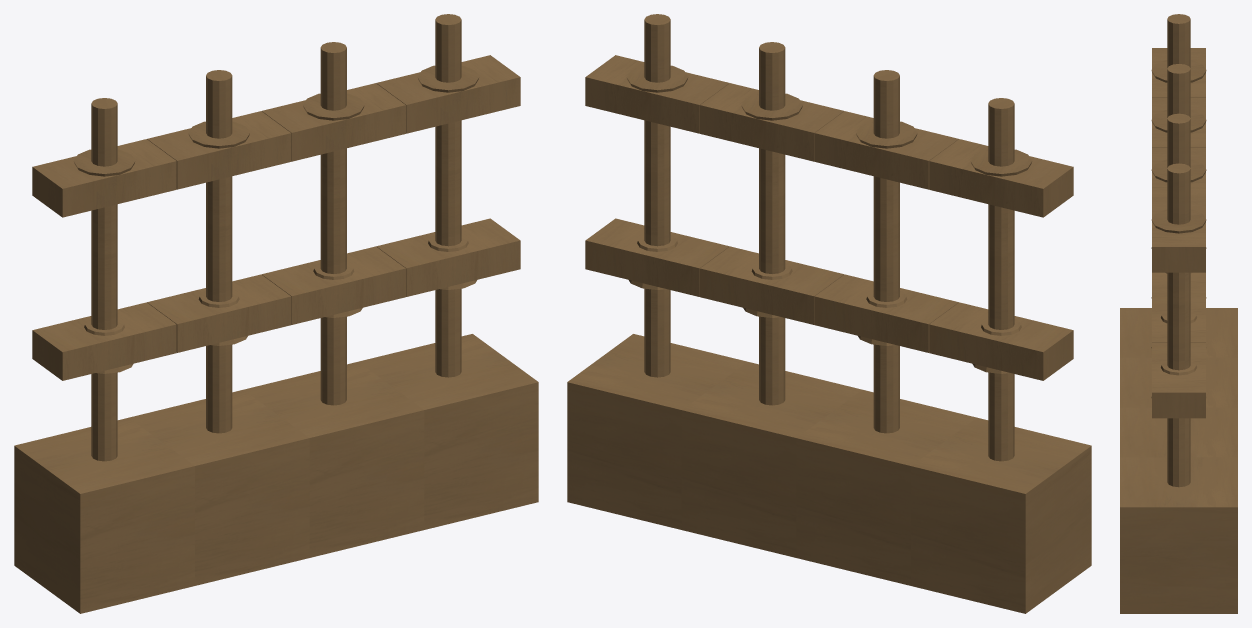
Rendered from Railingx4.glb.
The picture shows the model from 3 angles, left to right: view 1: azimuth 30°, elevation 25°; view 2: azimuth 150°, elevation 25°; view 3: azimuth 270°, elevation 25°; orthographic projection. The views are drawn at different scales.
Visible parts, largest first — view 1: Railingx4; view 2: Railingx4; view 3: Railingx4.
Boxes of the visible parts, box(x1,y1,x2,y2) form: Railingx4: box(14, 14, 538, 613); Railingx4: box(567, 14, 1091, 613); Railingx4: box(1120, 14, 1237, 613).
Size of the model in its own units: 8 by 7.88 by 2.
Materials: 1 (1 with a texture image).
